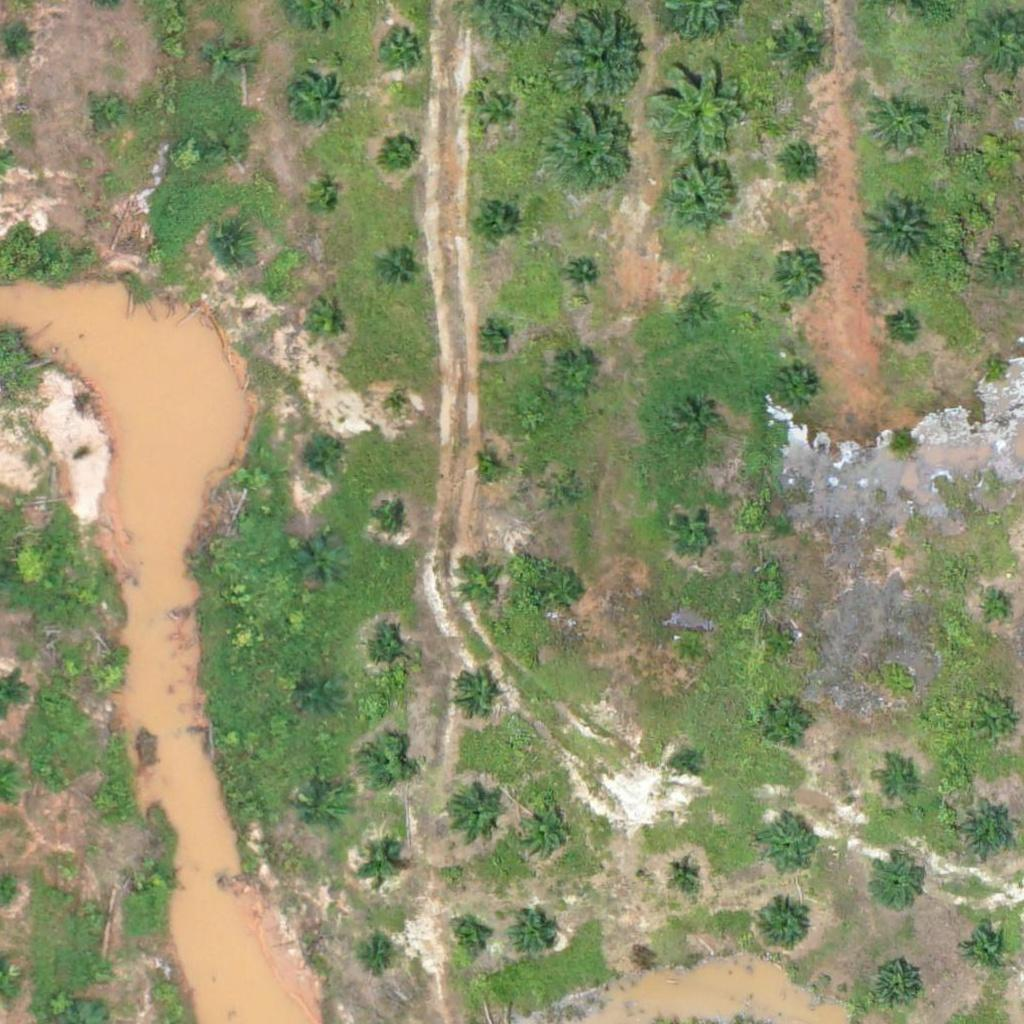Kelapa_Sawit: (648, 55, 748, 156), (655, 156, 743, 244), (546, 105, 634, 193), (558, 13, 646, 101), (861, 192, 936, 268), (958, 799, 1021, 862), (512, 800, 575, 863), (869, 94, 931, 157), (752, 896, 814, 959), (756, 814, 818, 877), (285, 71, 347, 134), (446, 782, 508, 845), (542, 565, 592, 616), (872, 858, 922, 909), (869, 959, 919, 1010), (960, 923, 1010, 974), (762, 695, 812, 746), (455, 559, 505, 610), (301, 298, 351, 349), (204, 31, 254, 82), (776, 23, 826, 73), (363, 630, 413, 680), (361, 739, 411, 789), (450, 672, 500, 722), (510, 908, 560, 958), (770, 252, 820, 302), (773, 366, 823, 416), (670, 505, 720, 555), (670, 398, 720, 448), (677, 284, 727, 334), (550, 354, 600, 404), (469, 194, 519, 244), (297, 538, 347, 588), (472, 85, 522, 135), (377, 21, 427, 71), (299, 789, 349, 839), (875, 764, 913, 802), (360, 844, 398, 882), (361, 935, 399, 973), (448, 918, 486, 956), (74, 895, 112, 933), (84, 782, 122, 820), (90, 657, 128, 695), (301, 439, 339, 477), (980, 707, 1017, 745), (667, 855, 704, 893), (138, 857, 175, 895), (671, 631, 709, 668), (545, 476, 583, 513), (304, 183, 342, 220), (301, 677, 338, 715), (211, 129, 249, 166), (384, 131, 421, 169), (764, 625, 801, 663), (380, 255, 417, 292), (212, 227, 249, 264), (89, 97, 126, 134), (890, 315, 915, 341), (983, 597, 1008, 622), (983, 353, 1008, 378), (673, 752, 698, 777), (481, 325, 506, 350), (474, 455, 499, 480), (386, 394, 411, 419), (380, 506, 405, 531), (791, 151, 816, 176), (889, 542, 914, 567), (569, 261, 593, 286)
